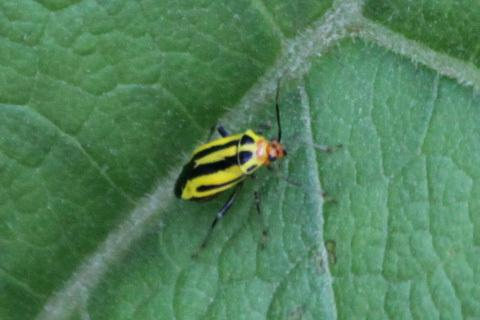plant_bugs: (156, 62, 359, 265)
